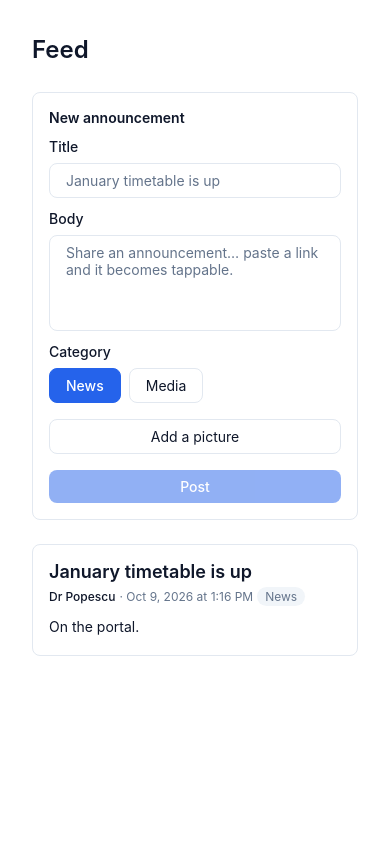
Test: rejects an oversize blob even when the picker reported no fileSize
The width and height of the screenshot is (390, 844).
In the field named "Title": coordinates (195, 180) [49, 163, 341, 198], type "Photo day"
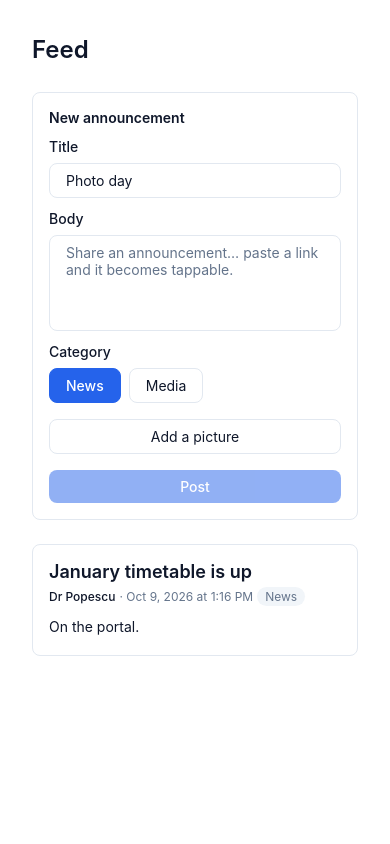
In the text box named "Body": coordinates (195, 283) [49, 235, 341, 331], type "Smile."
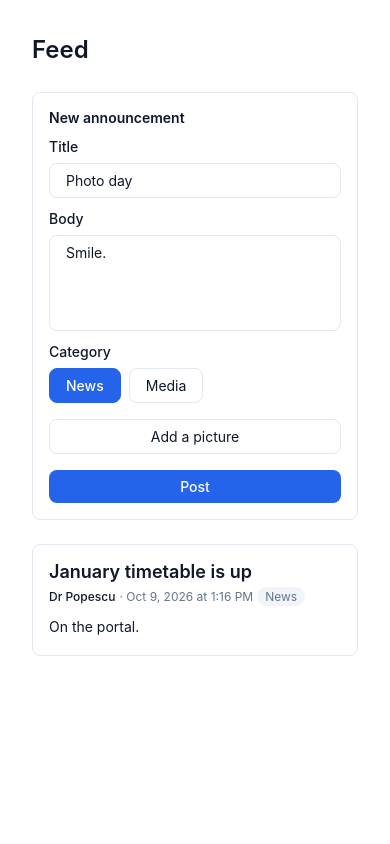
Click the button "Add a picture": coordinates (195, 436) [49, 419, 341, 454]
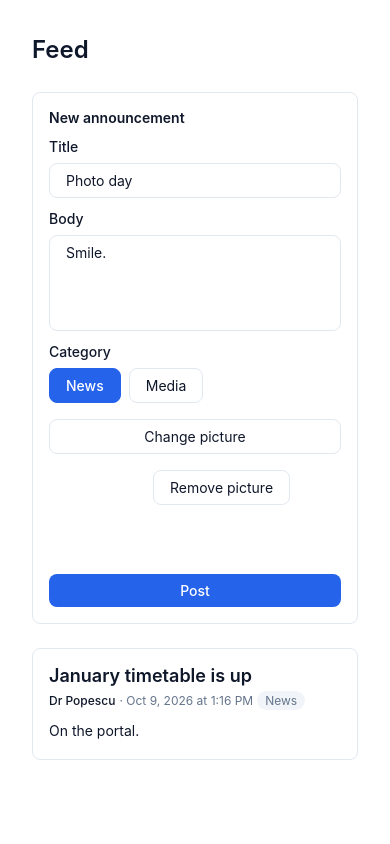
Expected: the text "Change picture" is shown, [144, 428, 246, 445]
Click the button "Post": coordinates (195, 590) [49, 574, 341, 607]
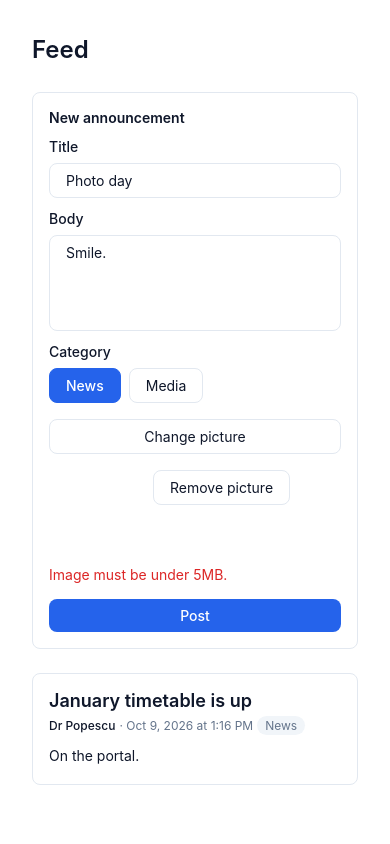
Expected: the text "Image must be under 5MB." is shown, [49, 566, 227, 583]
